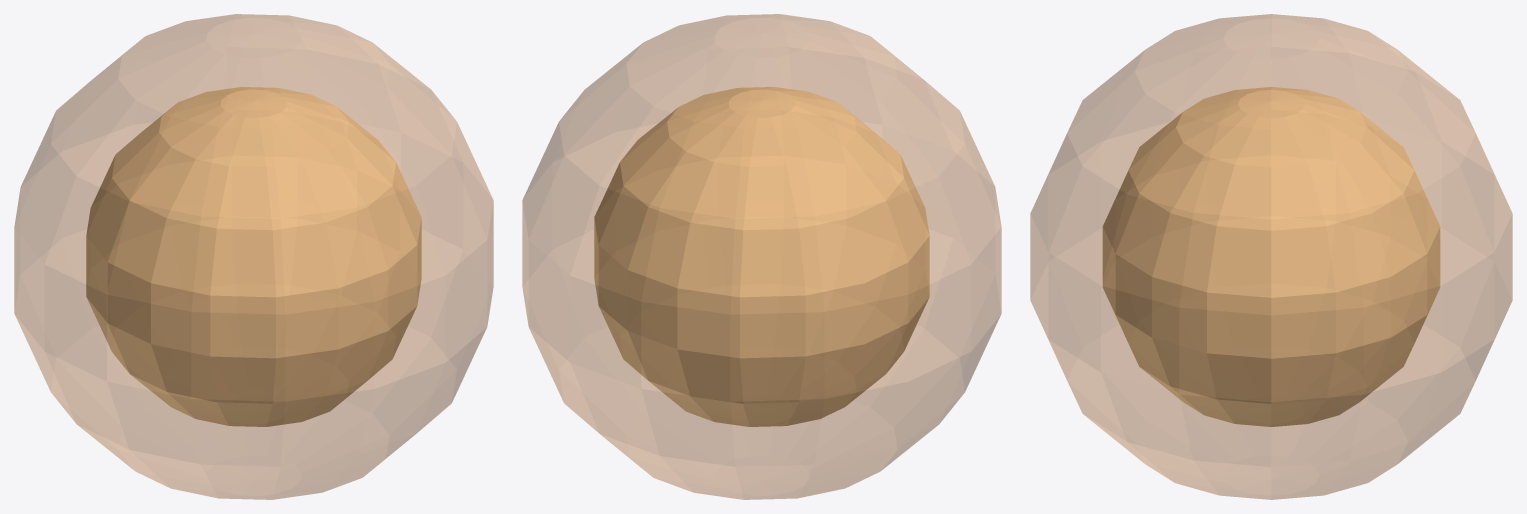
The model's file is fireball.fbx.
The picture shows the model from 3 angles, left to right: view 1: azimuth 30°, elevation 25°; view 2: azimuth 150°, elevation 25°; view 3: azimuth 270°, elevation 25°; orthographic projection.
Visible parts, largest first — view 1: Sphere.001; view 2: Sphere.001; view 3: Sphere.001.
Part boxes in pixels (box(x1,y1,x2,y2)): Sphere.001: box(14, 14, 493, 499); Sphere.001: box(522, 14, 1001, 499); Sphere.001: box(1030, 14, 1512, 499).
Size of the model in its own units: 196 by 200 by 196.
